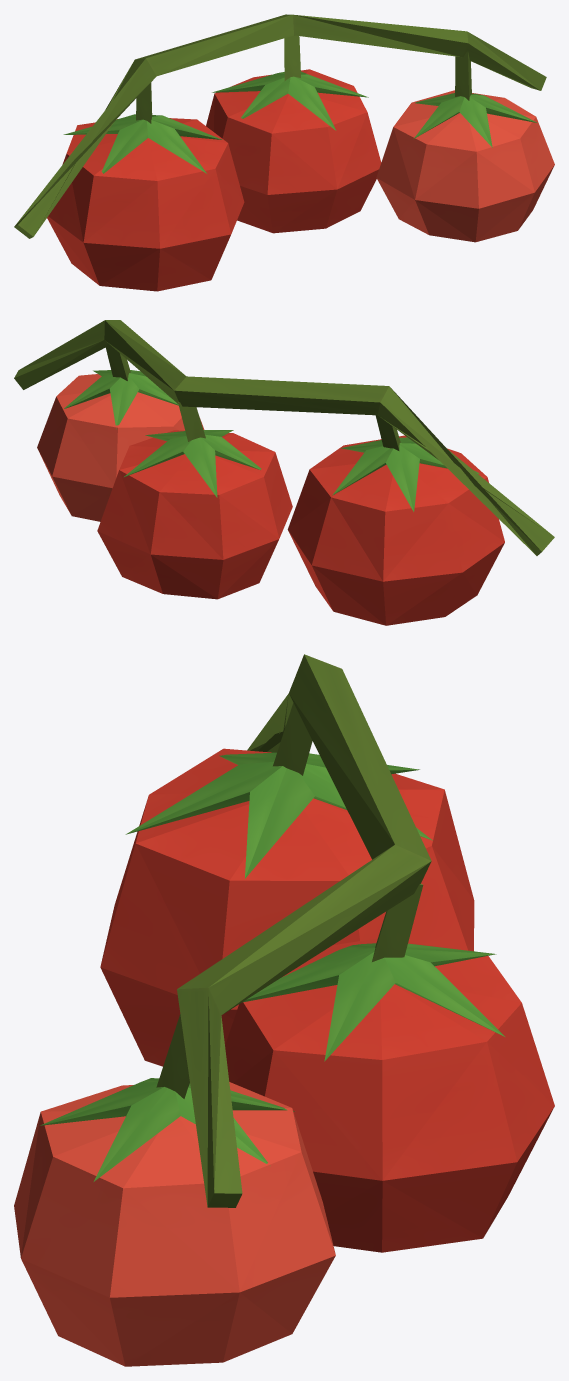
Rendered from FMS_Veg_Tomato_Branch.fbx.
The picture shows the model from 3 angles, top to bottom: view 1: azimuth 30°, elevation 25°; view 2: azimuth 150°, elevation 25°; view 3: azimuth 270°, elevation 25°; orthographic projection. The views are drawn at different scales.
Visible parts, largest first — view 1: Tomato_Branch; view 2: Tomato_Branch; view 3: Tomato_Branch.
Part boxes in pixels (x1,y1,x2,y2): Tomato_Branch: (14,14,554,291); Tomato_Branch: (14,320,554,625); Tomato_Branch: (14,654,554,1366).
Size of the model in its own units: 0.1803 by 0.071 by 0.0837.
